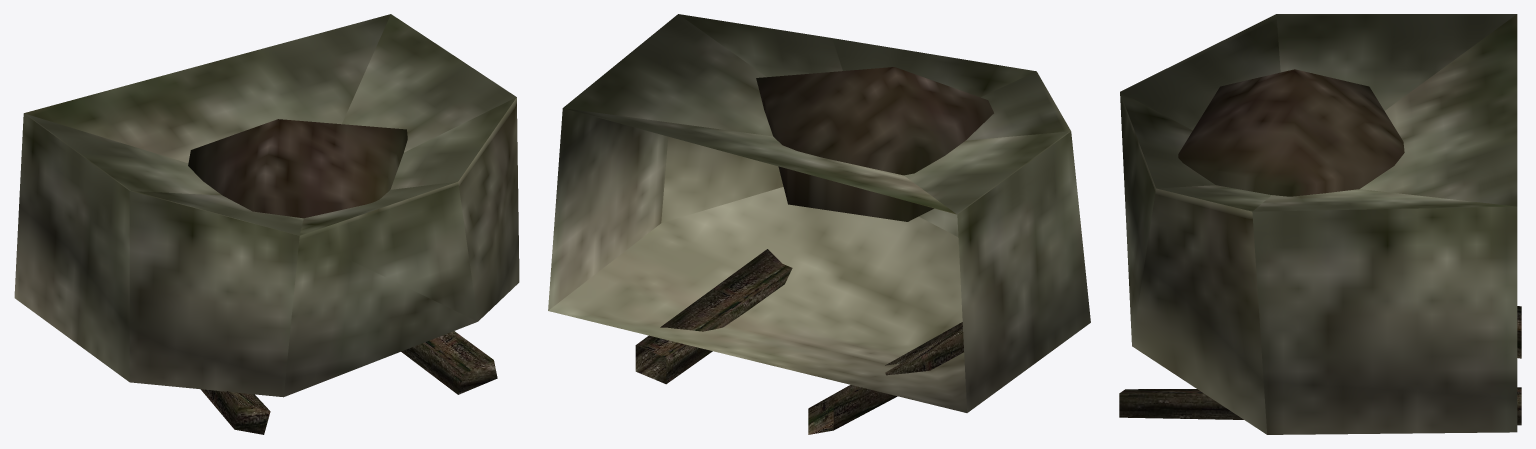
Rendered from NC_LOB_LIGHTER.glb.
The picture shows the model from 3 angles, left to right: view 1: azimuth 30°, elevation 25°; view 2: azimuth 150°, elevation 25°; view 3: azimuth 270°, elevation 25°; orthographic projection. The views are drawn at different scales.
Visible parts, largest first — view 1: Mesh; view 2: Mesh; view 3: Mesh.
Boxes of the visible parts, bbox=[...] form: Mesh: bbox=[14, 14, 519, 434]; Mesh: bbox=[548, 14, 1090, 434]; Mesh: bbox=[1119, 14, 1521, 434].
Bounding box in the file's own units: 0.418 × 0.2677 × 0.325.
Materials: 2 (2 with a texture image).
